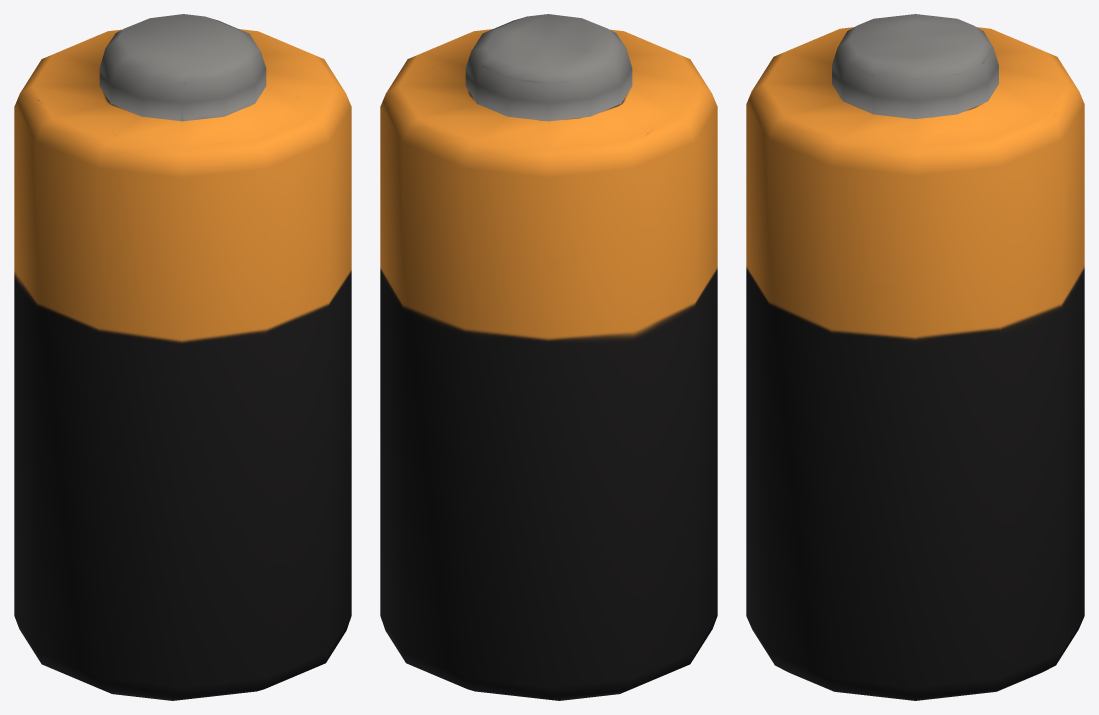
File: Battery.fbx
3 views of the same model, side by side, from view 1: azimuth 30°, elevation 25°; view 2: azimuth 150°, elevation 25°; view 3: azimuth 270°, elevation 25° (orthographic).
Parts seen in each view (by area): view 1: Cylinder; view 2: Cylinder; view 3: Cylinder.
Part boxes in pixels (bbox=[...]): Cylinder: bbox=[14, 14, 351, 700]; Cylinder: bbox=[380, 14, 717, 700]; Cylinder: bbox=[746, 14, 1084, 700].
Bounding box in the file's own units: 165 × 321 × 165.
